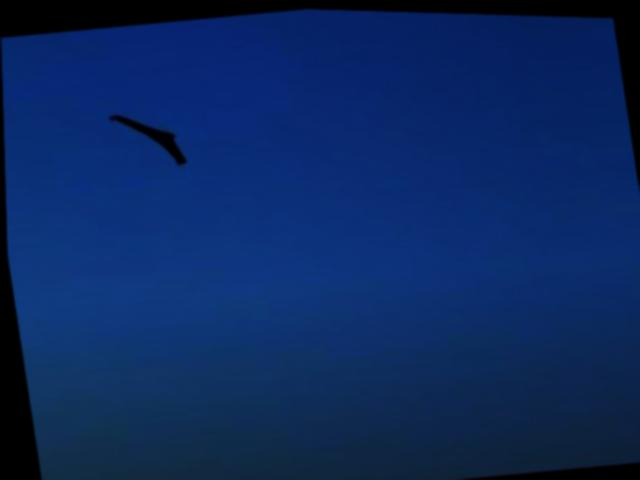iha: (101, 101, 188, 176)
